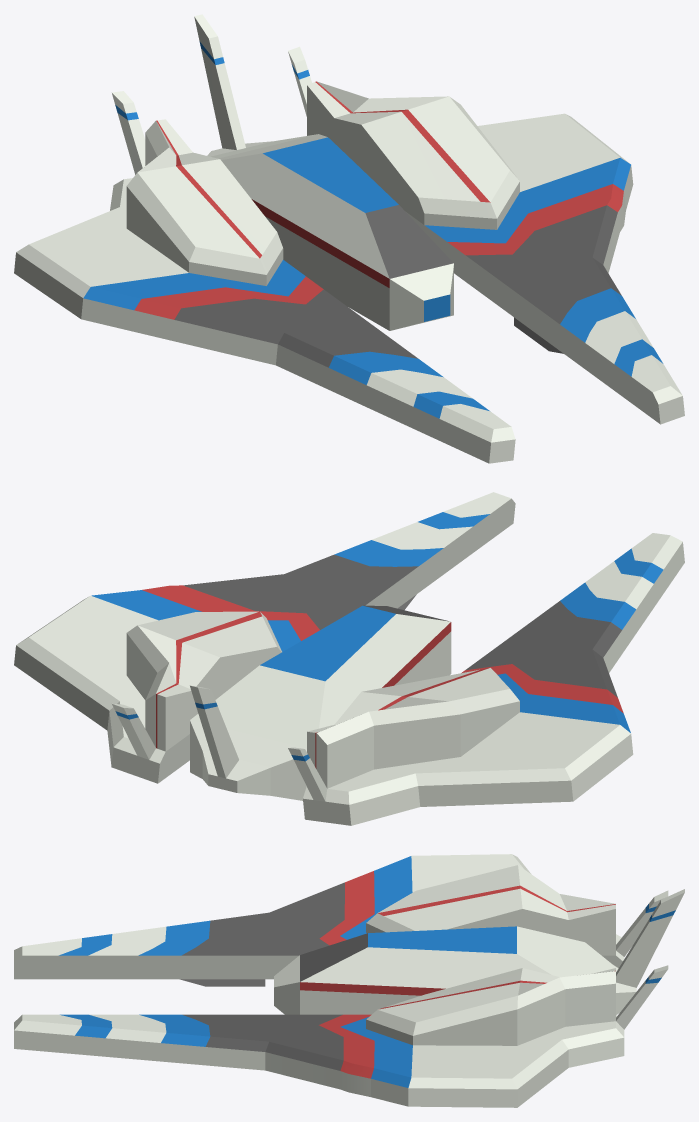
File: space_ship_model.fbx
The picture shows the model from 3 angles, top to bottom: view 1: azimuth 30°, elevation 25°; view 2: azimuth 150°, elevation 25°; view 3: azimuth 270°, elevation 25°; orthographic projection. The views are drawn at different scales.
Visible parts, largest first — view 1: polySurface3; view 2: polySurface3; view 3: polySurface3.
Boxes of the visible parts, <box> form: polySurface3: <box>14,14,684,463</box>; polySurface3: <box>14,492,684,825</box>; polySurface3: <box>14,854,684,1107</box>.
Bounding box in the file's own units: 11.99 × 3.05 × 14.51.
1 material, 1 textured.
